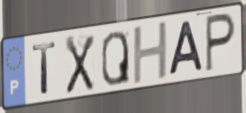A: (167, 19, 206, 79)
H: (131, 18, 170, 87)
P: (204, 11, 238, 75)
Q: (100, 29, 132, 88)
T: (30, 40, 58, 97)
X: (64, 33, 96, 96)
